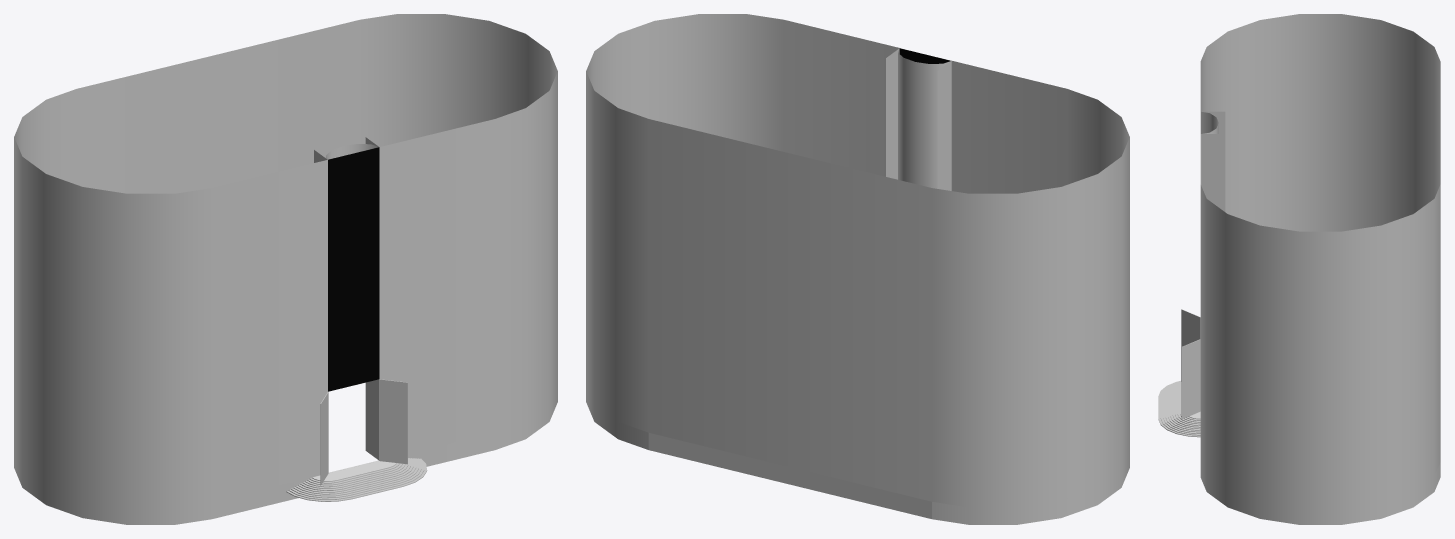
The model's file is CommercialStreet_Outside.fbx.
3 renders of one model, left to right at view 1: azimuth 30°, elevation 25°; view 2: azimuth 150°, elevation 25°; view 3: azimuth 270°, elevation 25°, orthographic. The views are drawn at different scales.
Visible parts, largest first — view 1: Cylinder.019, Cylinder.022, Cylinder.020, Cube.036, Plane.081, Plane.080; view 2: Cylinder.019, Cylinder.020, Cylinder.021; view 3: Cylinder.019, Cylinder.020, Cube.036, Plane.081, Plane.080, Cylinder.021.
Boxes of the visible parts, box(x1,y1,x2,y2) form: Cylinder.019: box(14, 14, 557, 507); Cylinder.022: box(328, 147, 379, 391); Cylinder.020: box(14, 385, 557, 524); Cube.036: box(286, 458, 427, 501); Plane.081: box(379, 379, 407, 464); Plane.080: box(320, 391, 328, 485); Cylinder.019: box(586, 14, 1129, 507); Cylinder.020: box(586, 385, 1129, 524); Cylinder.021: box(898, 48, 951, 190); Cylinder.019: box(1200, 14, 1440, 509); Cylinder.020: box(1200, 462, 1440, 524); Cube.036: box(1158, 381, 1200, 437); Plane.081: box(1181, 339, 1200, 419); Plane.080: box(1181, 309, 1200, 381); Cylinder.021: box(1200, 111, 1218, 184).
Size of the model in its own units: 57809 by 36344 by 31684.
